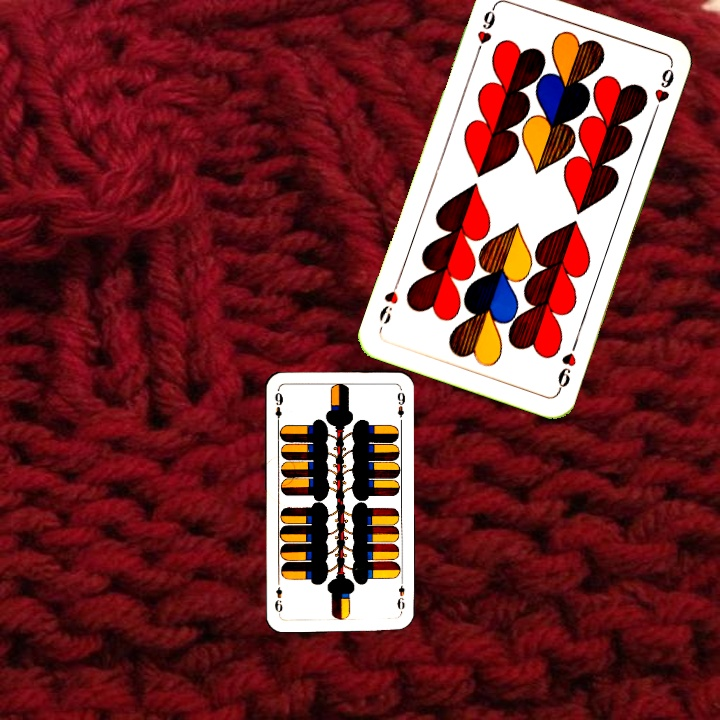E9: (271, 389, 286, 427), (393, 575, 407, 615)
H9: (553, 338, 581, 395), (471, 2, 498, 60)
